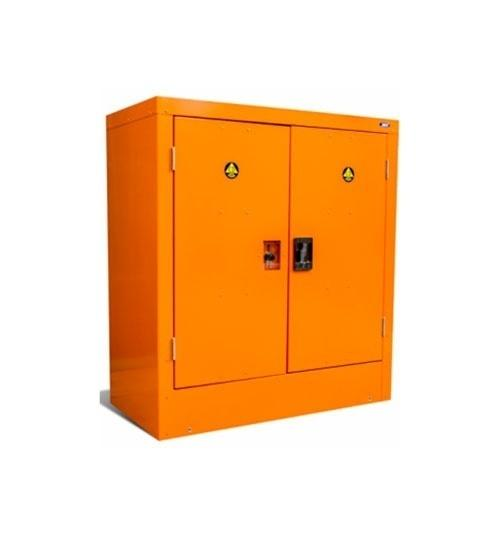cabinet_door: (172, 124, 287, 381), (291, 135, 386, 368)
handle: (293, 236, 312, 272), (264, 243, 279, 270)
